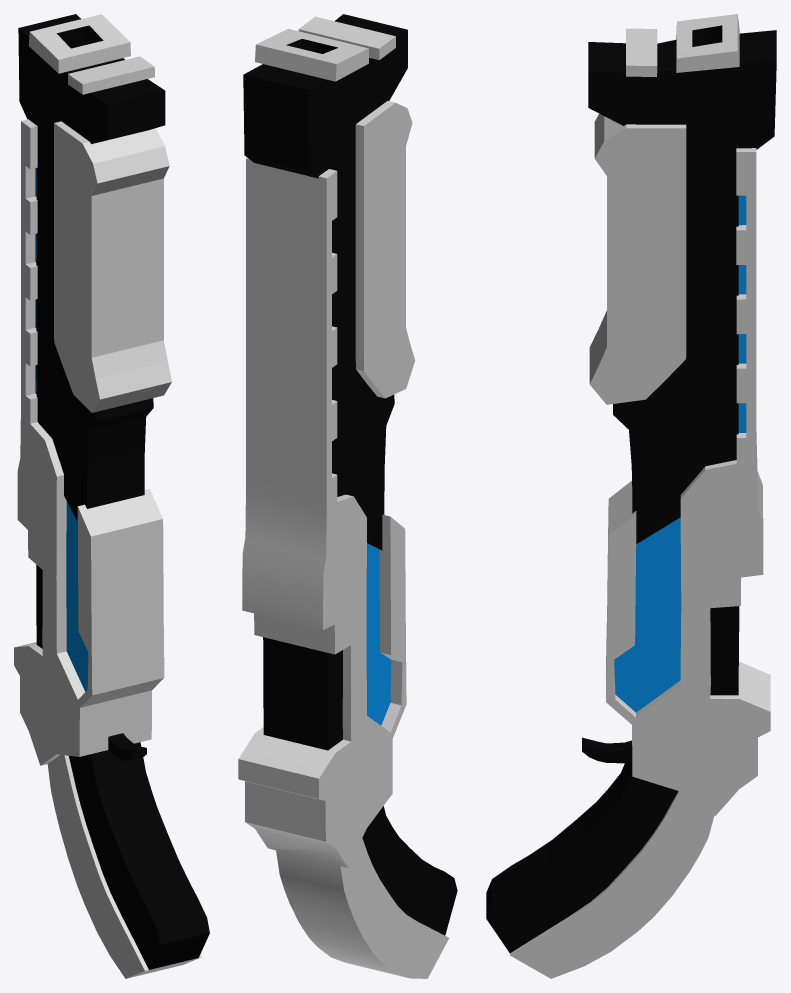
The model's file is Shotgun.fbx.
3 renders of one model, left to right at view 1: azimuth 30°, elevation 25°; view 2: azimuth 150°, elevation 25°; view 3: azimuth 270°, elevation 25°, orthographic. The views are drawn at different scales.
Parts seen in each view (by area): view 1: Shotgun; view 2: Shotgun; view 3: Shotgun.
Part boxes in pixels (bbox=[...]): Shotgun: bbox=[14, 14, 209, 978]; Shotgun: bbox=[238, 14, 457, 978]; Shotgun: bbox=[486, 14, 776, 978].
Bounding box in the file's own units: 21.8 × 255 × 72.18.
